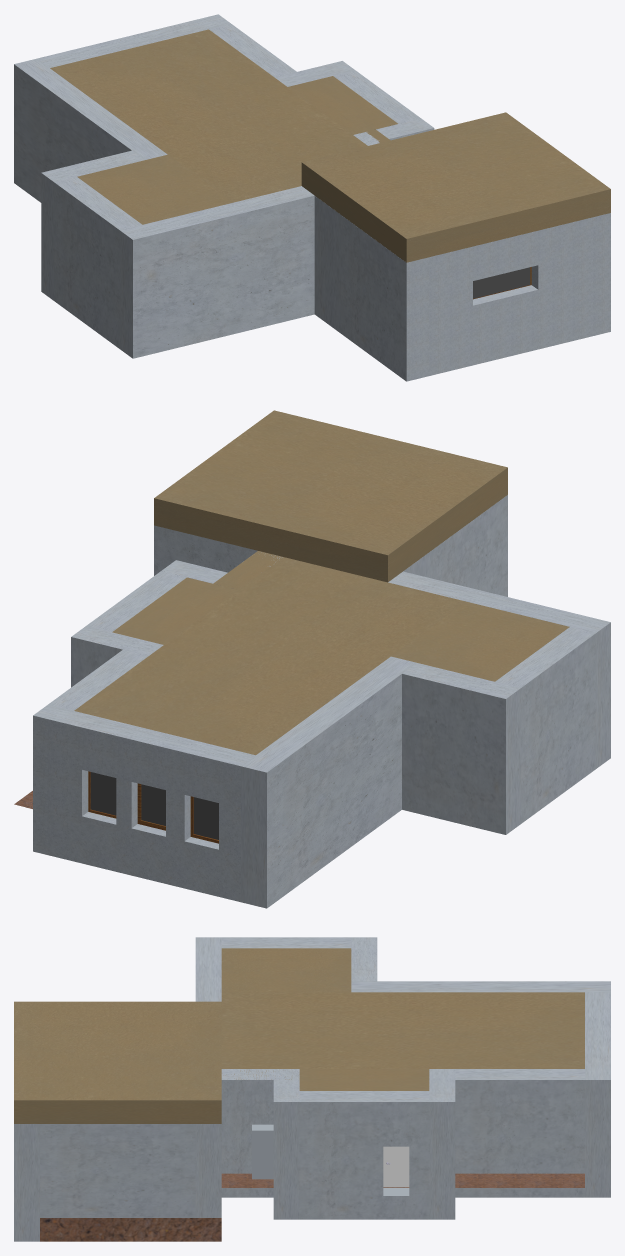
File: home.glb
3 views of the same model, one above another, from view 1: azimuth 30°, elevation 25°; view 2: azimuth 150°, elevation 25°; view 3: azimuth 270°, elevation 25° (orthographic). The views are drawn at different scales.
Parts seen in each view (by area): view 1: Roof, Rest.006, Rest.005, Rest.009, Rest.007, Rest.008, Rest.010, Rest.011, Rest.013, Glass2, Rest.012, Rest.014; view 2: Roof, Rest.010, Rest.009, Rest.008, Rest.007, Rest.006, Rest.005, Glass, Rest.012, Rest.011, Rest.013, Rest.014 (+1 smaller); view 3: Roof, Rest.006, Rest.013, Rest.011, Rest.014, Floor, Rest.010, Rest.012, Rest.009, Rest.005, Rest.007, Rest.008 (+1 smaller).
Part boxes in pixels (x1,y1,x2,y2): Roof: (50,29,610,262); Rest.006: (314,196,610,381); Rest.005: (120,186,314,358); Rest.009: (14,58,167,202); Rest.007: (54,177,142,348); Rest.008: (41,150,144,300); Rest.010: (37,14,230,67); Rest.011: (209,24,296,77); Rest.013: (333,70,420,123); Glass2: (473,267,530,298); Rest.012: (275,61,355,86); Rest.014: (353,118,434,145); Roof: (74,410,569,755); Rest.010: (33,704,255,902); Rest.009: (241,656,416,908); Rest.008: (402,663,520,834); Rest.007: (495,627,595,823); Rest.006: (154,495,507,596); Rest.005: (388,571,610,768); Glass: (90,772,218,839); Rest.012: (71,626,163,687); Rest.011: (48,649,148,710); Rest.013: (86,571,186,632); Rest.014: (161,552,282,583); Roof: (14,948,584,1123); Rest.006: (14,1124,221,1241); Rest.013: (299,1091,429,1219); Rest.011: (455,1069,584,1197); Rest.014: (221,1069,299,1219); Floor: (40,1173,584,1241); Rest.010: (585,992,610,1197); Rest.012: (429,1069,455,1219); Rest.009: (351,981,610,992); Rest.005: (195,937,221,1001); Rest.007: (221,937,351,948); Rest.008: (351,937,377,981).
Bounding box in the file's own units: 17 × 6 × 23.
Materials: 9 (6 with a texture image).
